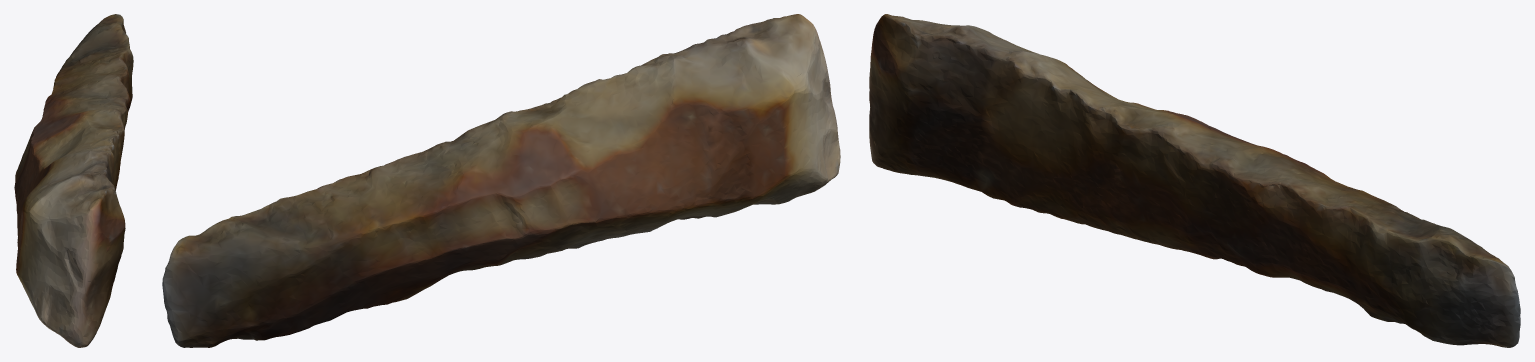
The model's file is flintmeissel_nT.obj.
3 renders of one model, left to right at view 1: azimuth 30°, elevation 25°; view 2: azimuth 150°, elevation 25°; view 3: azimuth 270°, elevation 25°, orthographic. The views are drawn at different scales.
Bounding box in the file's own units: 0.7166 × 0.3452 × 1.07.
